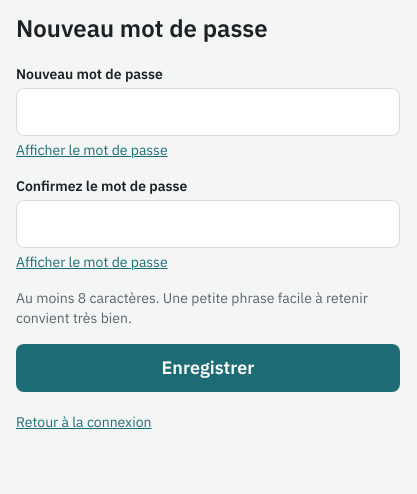
Scenario: account links and forgotten password (D1, D4, D5) › D5_aShortOrMismatchedPasswordIsRefusedBeforeTheServer
Type "court" into the password field labelled "Nouveau mot de passe" at coordinates (208, 112), box top-left (16, 88), bottom-right (400, 136)
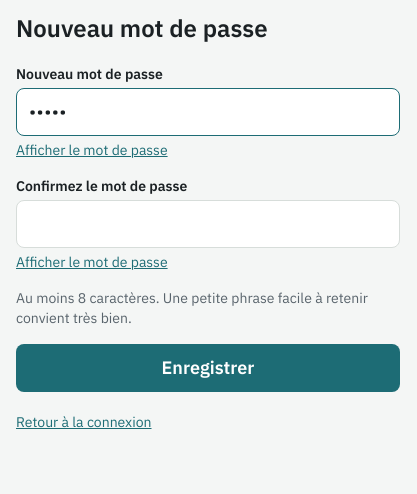
Type "autre" into the password field labelled "Confirmez le mot de passe" at coordinates (208, 224), box top-left (16, 200), bottom-right (400, 248)
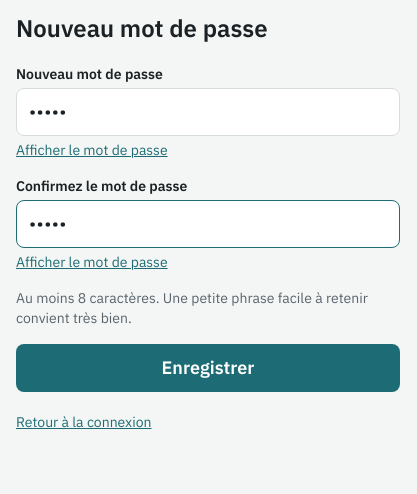
Click the button "Enregistrer" at coordinates (208, 368), box top-left (16, 344), bottom-right (400, 392)
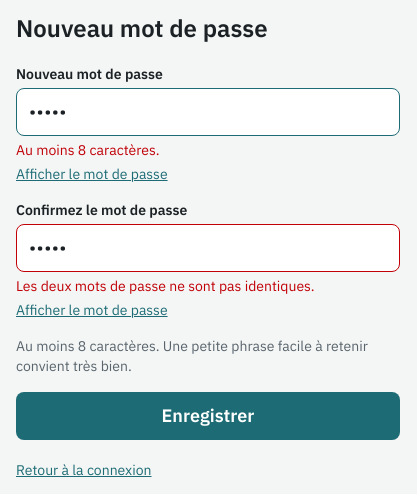
Expected: the text "Au moins 8 caractères." is shown, top-left (16, 141), bottom-right (160, 159)
Expected: the text "Les deux mots de passe ne sont pas identiques." is shown, top-left (16, 277), bottom-right (315, 295)
